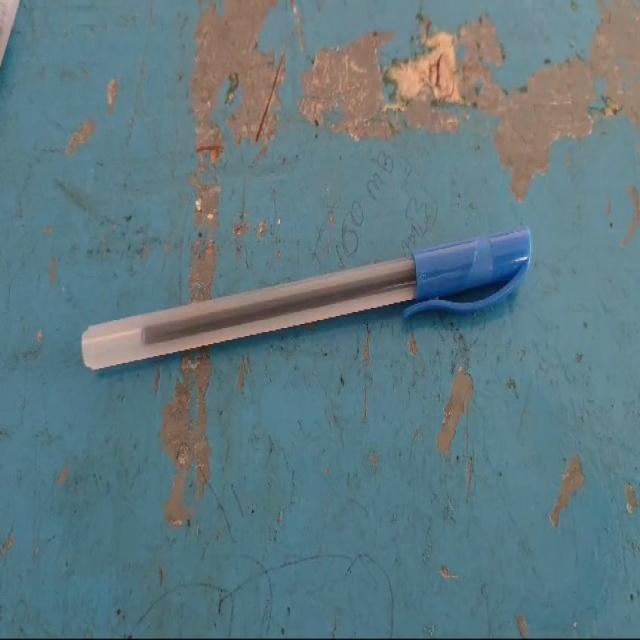pen: (41, 183, 566, 420)
